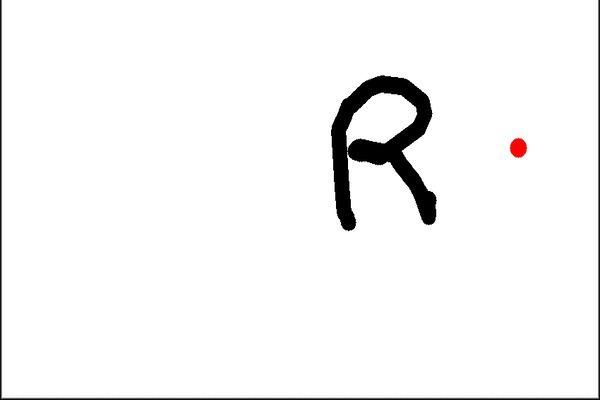R: (315, 64, 448, 233)
